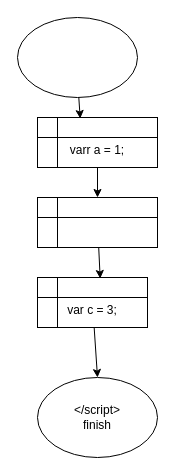
This 175x475 diagram has some shape labels left out. Here are the shapes that lost their labels. From the top down, the centre of each, then its label:
At (77,57): "start <script>".
At (97,222): "var b = 2;".
